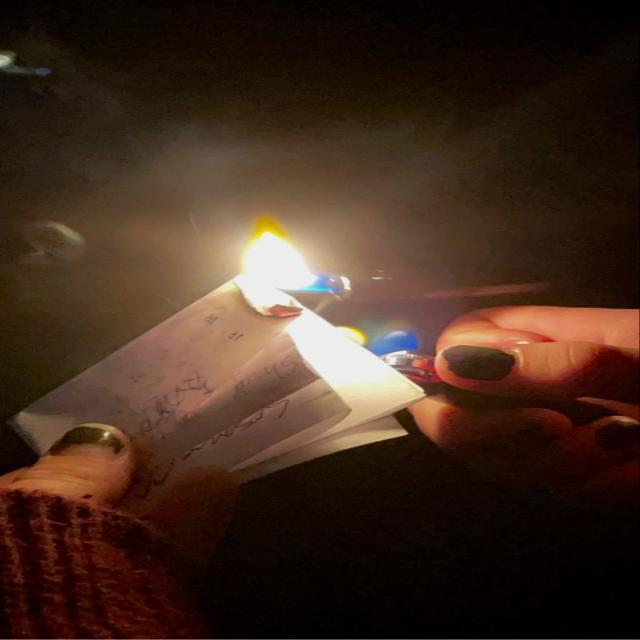fire: (235, 228, 321, 291)
